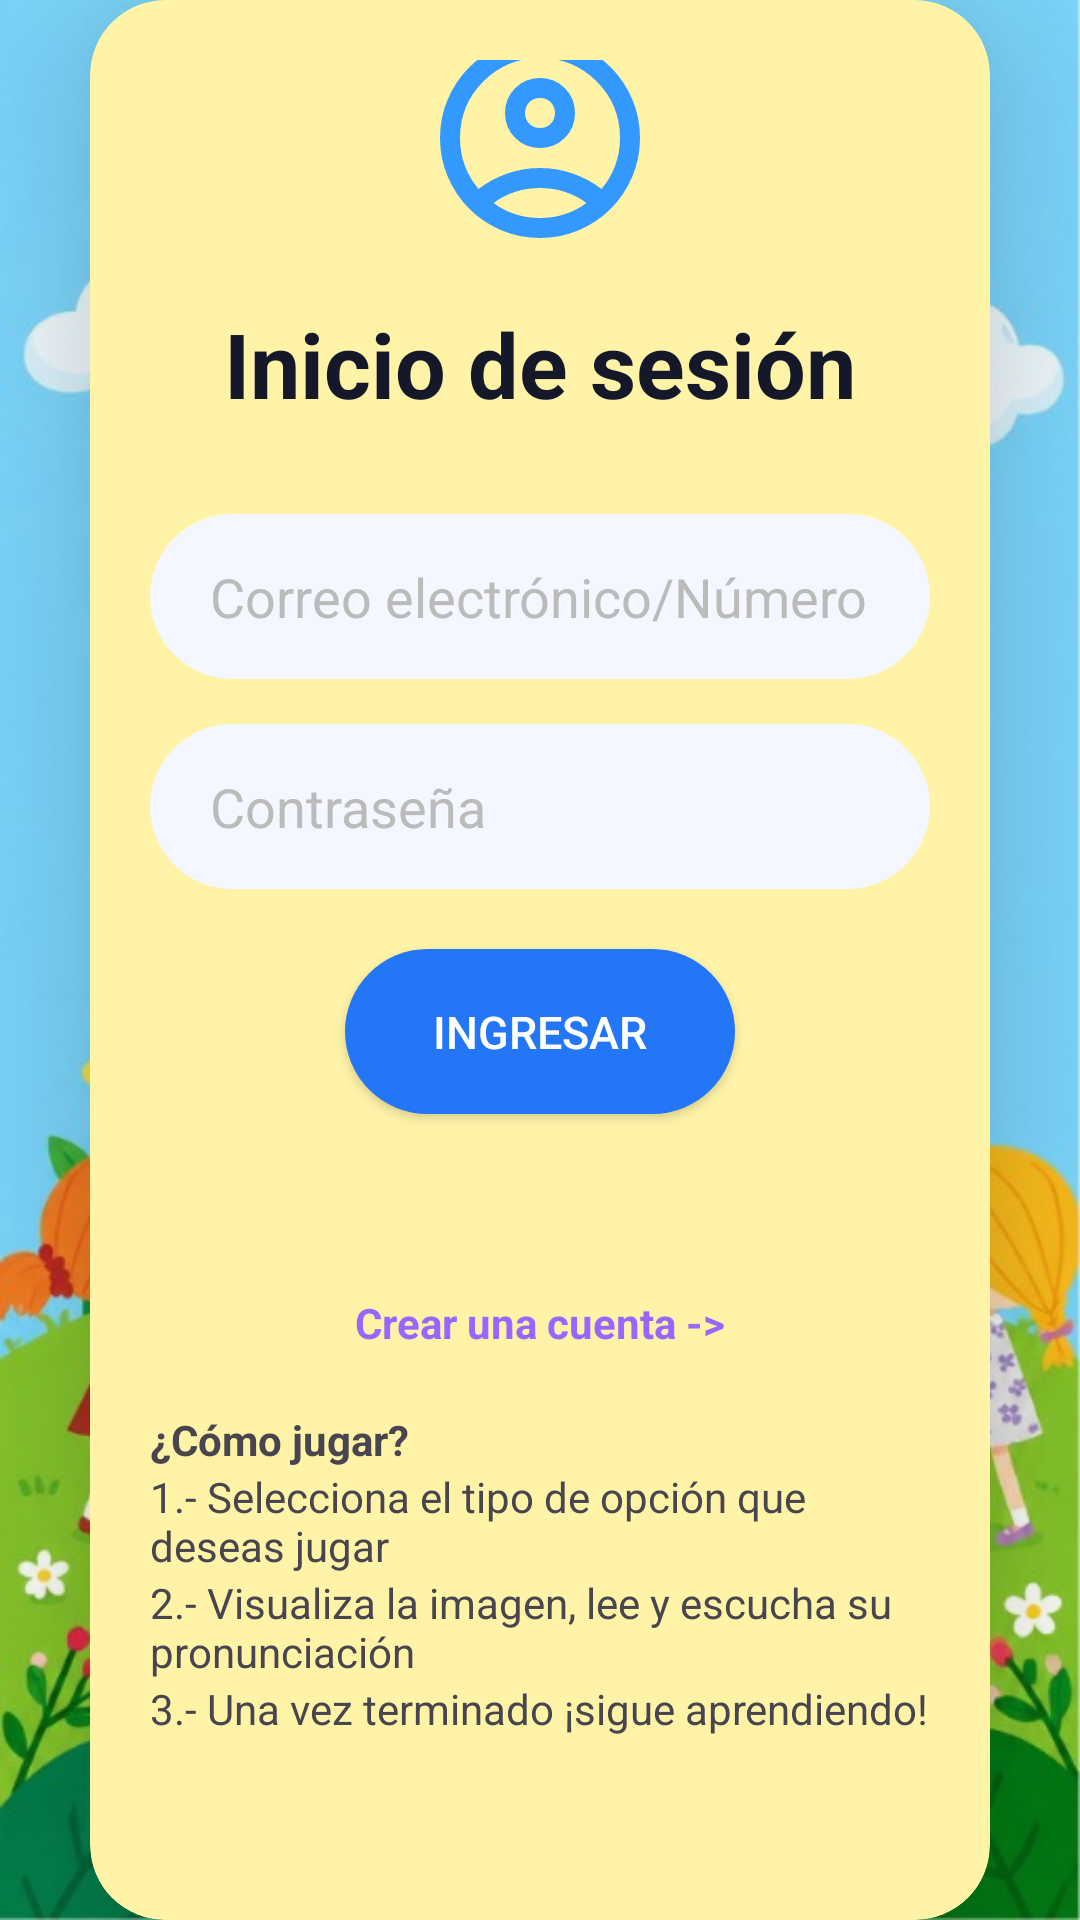

Locate icon controls on the screen. Image size 1080px×1920px, boxes as {"left": x1, "top": y1, "right": x2, "bottom": y2}.
cuenta: {"left": 440, "top": 60, "right": 640, "bottom": 238}
